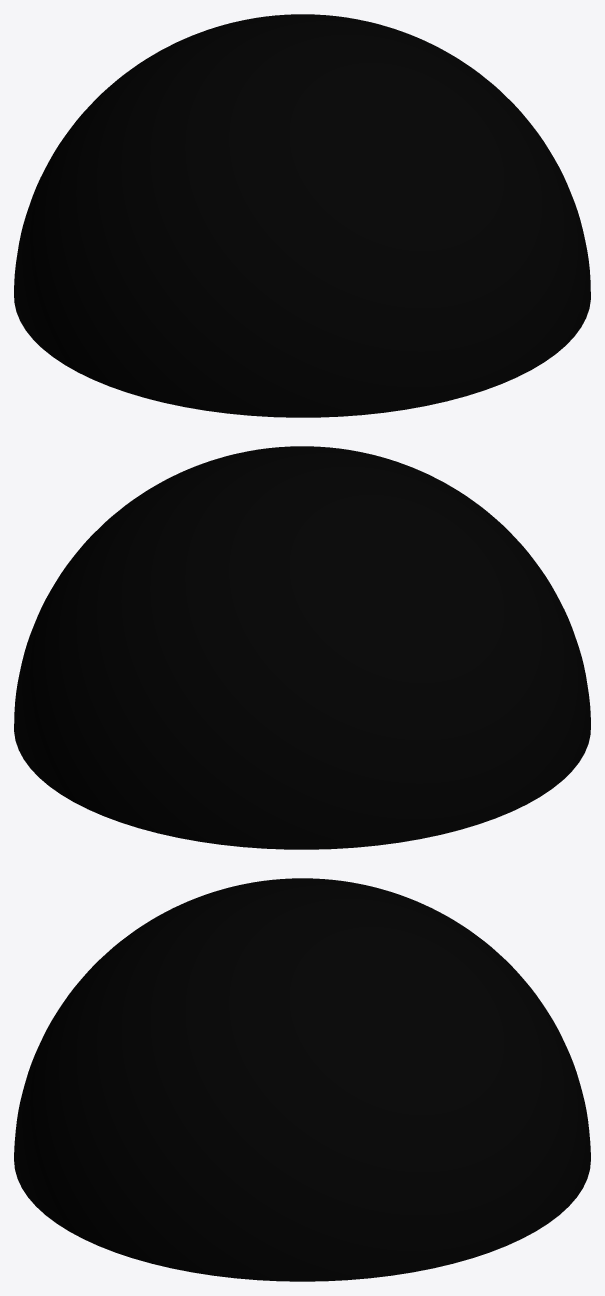
Rendered from semisphere.glb.
3 views of the same model, one above another, from view 1: azimuth 30°, elevation 25°; view 2: azimuth 150°, elevation 25°; view 3: azimuth 270°, elevation 25° (orthographic).
Parts seen in each view (by area): view 1: mesh_id33; view 2: mesh_id33; view 3: mesh_id33.
Boxes of the visible parts, x1,y1,x2,y2 form: mesh_id33: (14, 14, 590, 417); mesh_id33: (14, 446, 590, 849); mesh_id33: (14, 878, 590, 1281).
Size of the model in its own units: 0.2634 by 0.1277 by 0.2634.
Materials: 1 (1 with a texture image).
